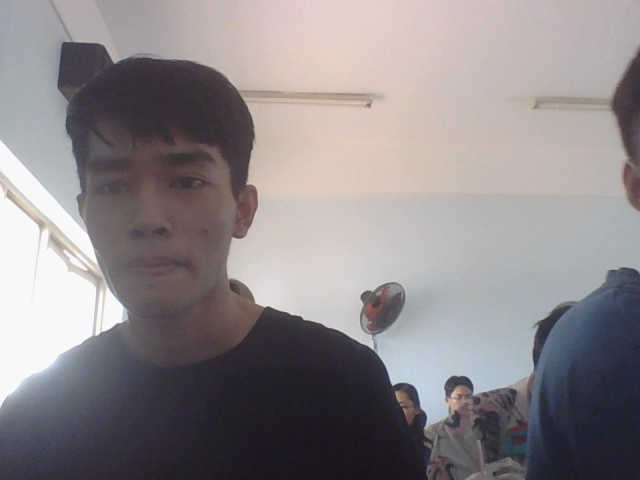real: (59, 35, 265, 327)
